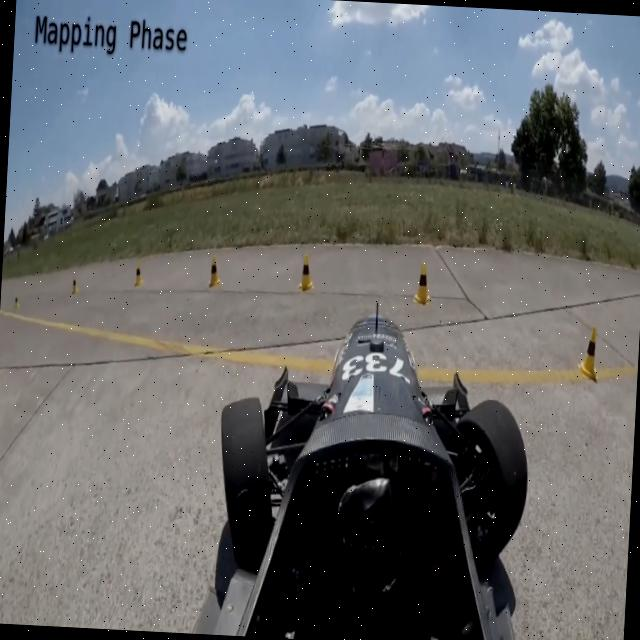yellow_cone: (574, 324, 602, 378), (412, 266, 434, 310), (296, 249, 316, 295), (206, 254, 222, 292), (131, 263, 144, 291), (70, 272, 81, 300), (13, 292, 22, 312)
